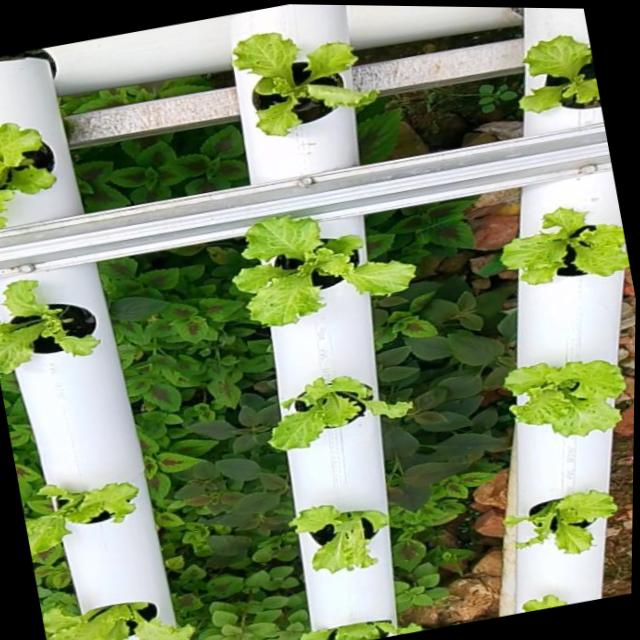Baby: (238, 218, 418, 326), (240, 36, 384, 139), (271, 376, 414, 449), (0, 279, 106, 377), (502, 211, 630, 287), (504, 361, 627, 437), (25, 480, 143, 552), (503, 490, 616, 553), (0, 126, 65, 231), (291, 503, 390, 571), (43, 598, 194, 640), (524, 40, 601, 117)
